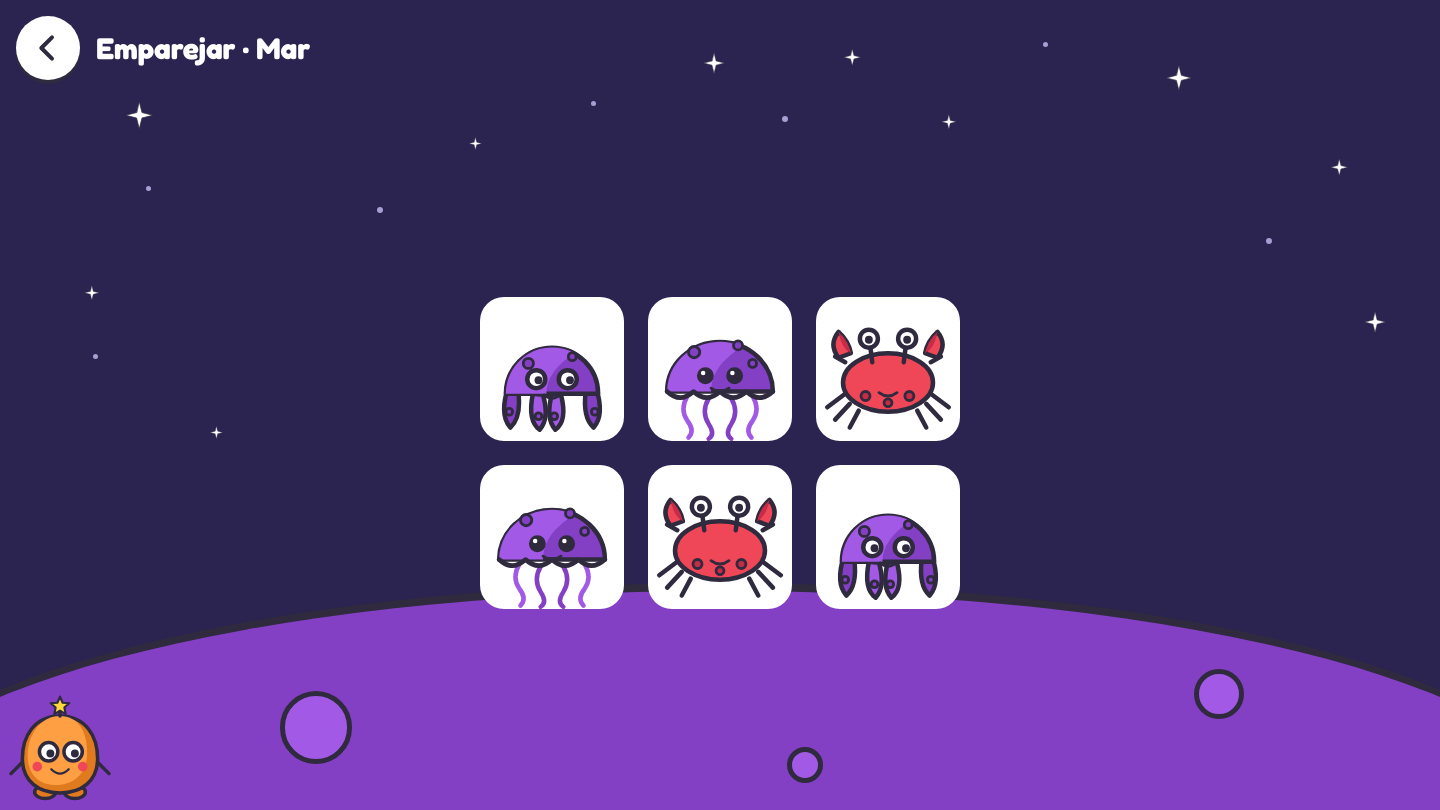
volver deshace un toque, no la sesión entera
Click the link named "Volver" at (48, 48), box [16,16,80,80]
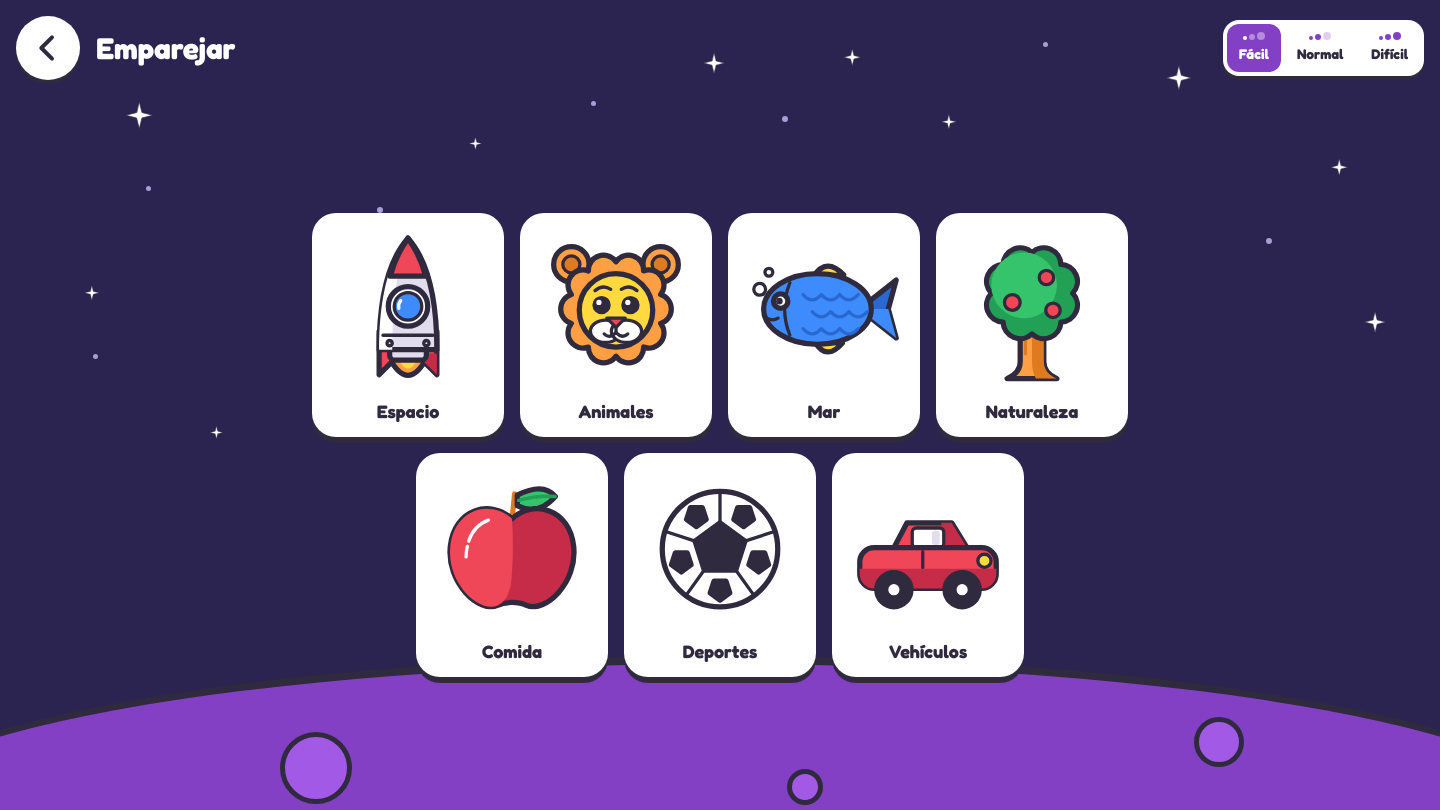
Expected: the heading "Emparejar" is shown, [96,30,236,66]
Click the link named "Volver" at (48, 48), box [16,16,80,80]
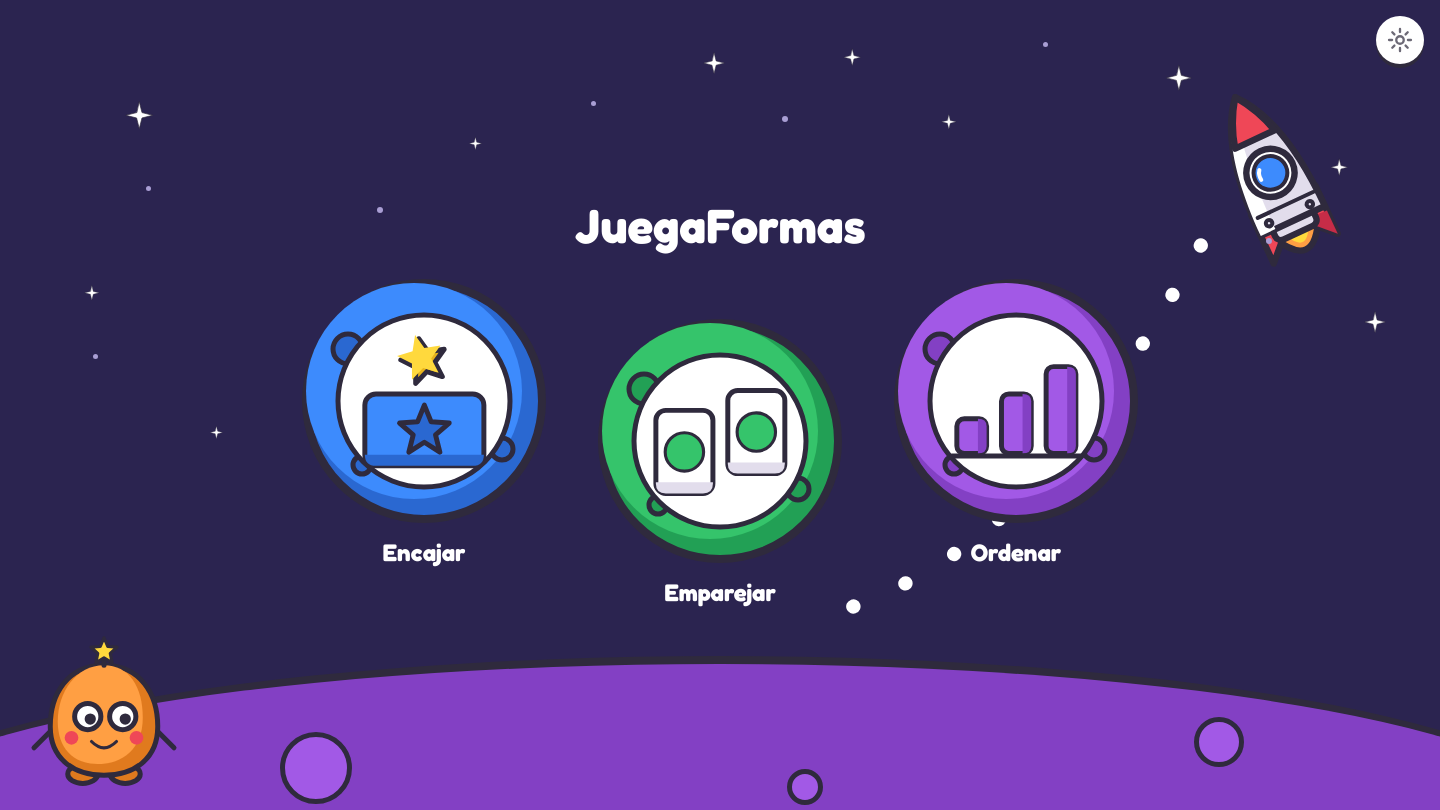
Expected: the heading "JuegaFormas" is shown, [575,201,865,249]
